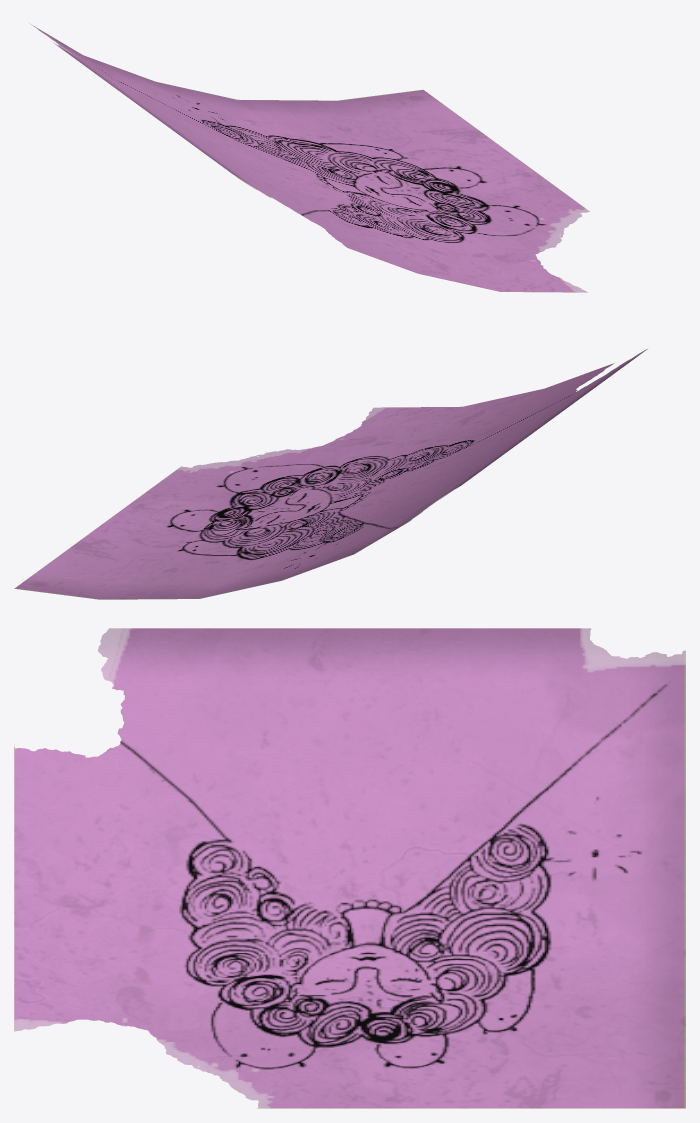
Rendered from SM_PostItNote_03.fbx.
3 renders of one model, top to bottom at view 1: azimuth 30°, elevation 25°; view 2: azimuth 150°, elevation 25°; view 3: azimuth 270°, elevation 25°, orthographic. The views are drawn at different scales.
Parts seen in each view (by area): view 1: SM_PostItNote_03_LOD0; view 2: SM_PostItNote_03_LOD0; view 3: SM_PostItNote_03_LOD0.
Boxes of the visible parts, bbox=[...] form: SM_PostItNote_03_LOD0: bbox=[29, 23, 589, 292]; SM_PostItNote_03_LOD0: bbox=[14, 349, 647, 599]; SM_PostItNote_03_LOD0: bbox=[14, 628, 685, 1108].
Bounding box in the file's own units: 10.88 × 12.08 × 4.45.
